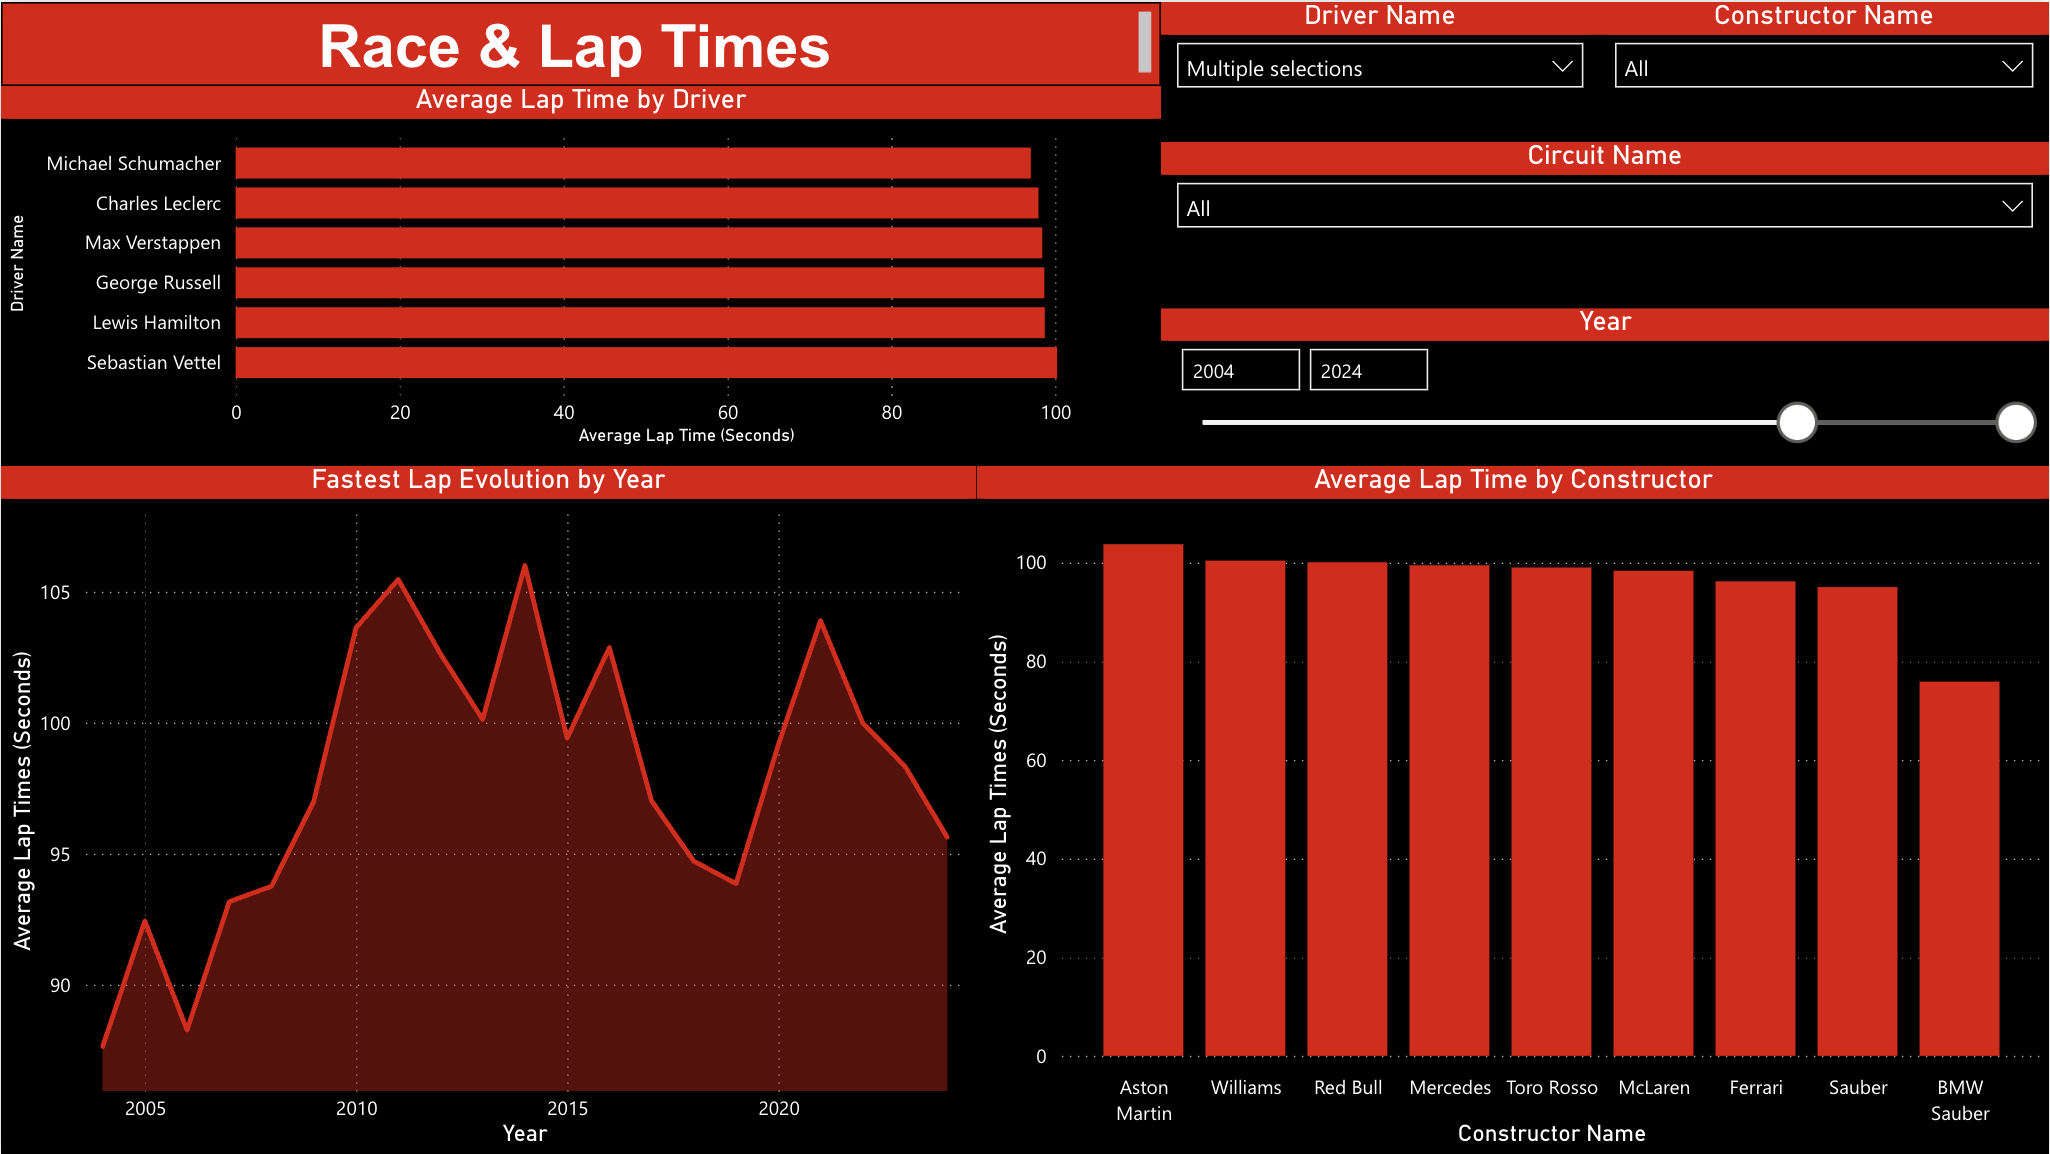

This screenshot's page, from the dashboard's own definition file:
{"tool":"powerbi","page":{"name":"Race and Lap","canvas":[1280,720],"ordinal":2},"visuals":[{"type":"barChart","title":"Average Lap Time by Driver","fields":{"Category":["f1_master 1.full_name"],"Y":["Avg(f1_master 1.avg_lap_seconds_x)"]},"box":[0,52.5,725,228.8],"z":0},{"type":"slicer","title":"Year","fields":{"Values":["f1_master 1.year"]},"box":[724.4,191.2,555.6,89.6],"z":2000},{"type":"slicer","title":"Circuit Name","fields":{"Values":["f1_master 1.circuit_name"]},"box":[725,87.5,555,103.8],"z":3000},{"type":"lineChart","title":"Fastest Lap Evolution by Year","fields":{"Category":["f1_master 1.year"],"Y":["Avg(f1_master 1.avg_lap_seconds_y)"]},"box":[0,289.8,609.4,430.2],"z":4000},{"type":"clusteredColumnChart","title":"Average Lap Time by Constructor","fields":{"Category":["f1_master 1.constructor_name"],"Y":["Avg(f1_master 1.avg_lap_seconds_y)"]},"box":[609.4,289.8,670.6,430.2],"z":5000},{"type":"slicer","title":"Driver Name","fields":{"Values":["f1_master 1.full_name"]},"box":[725,0,273.8,87.5],"z":6000},{"type":"slicer","title":"Constructor Name","fields":{"Values":["f1_master 1.constructor_name"]},"box":[998.8,0,281.2,103.8],"z":7000},{"type":"textbox","box":[0,0,725,52.5],"z":7001}]}

Visuals, with their boxes in screenshot pixels (x1, y1, x2, y2), scaled from the page's 1280x720 canvas onto the 2050x1154 screenshot:
"Average Lap Time by Driver" barChart: [left=0, top=84, right=1161, bottom=451]
"Year" slicer: [left=1160, top=306, right=2049, bottom=450]
"Circuit Name" slicer: [left=1161, top=140, right=2049, bottom=307]
"Fastest Lap Evolution by Year" lineChart: [left=0, top=464, right=976, bottom=1153]
"Average Lap Time by Constructor" clusteredColumnChart: [left=976, top=464, right=2049, bottom=1153]
"Driver Name" slicer: [left=1161, top=0, right=1600, bottom=140]
"Constructor Name" slicer: [left=1600, top=0, right=2049, bottom=166]
textbox: [left=0, top=0, right=1161, bottom=84]
